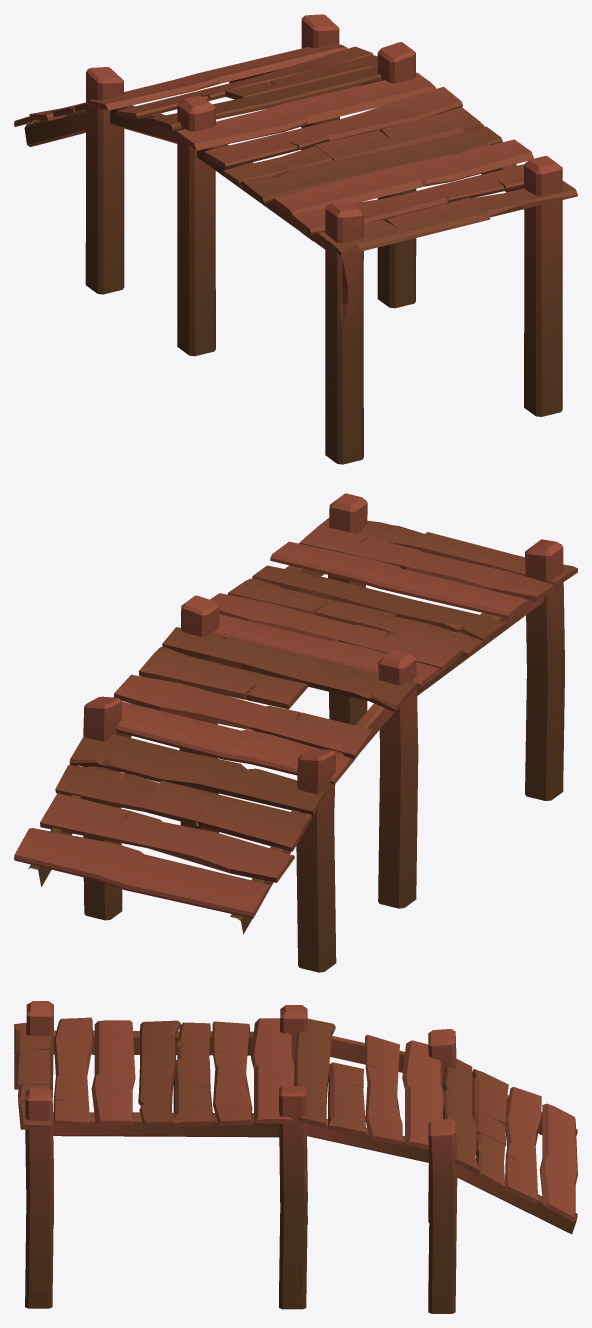
3 renders of one model, top to bottom at view 1: azimuth 30°, elevation 25°; view 2: azimuth 150°, elevation 25°; view 3: azimuth 270°, elevation 25°, orthographic. The views are drawn at different scales.
Parts seen in each view (by area): view 1: PierStart; view 2: PierStart; view 3: PierStart.
Boxes of the visible parts, x1=… form: PierStart: x1=14, y1=14, x2=577, y2=464; PierStart: x1=14, y1=493, x2=577, y2=972; PierStart: x1=14, y1=1001, x2=577, y2=1313.
Size of the model in its own units: 52.07 by 50.65 by 120.
Materials: 1 (1 with a texture image).
